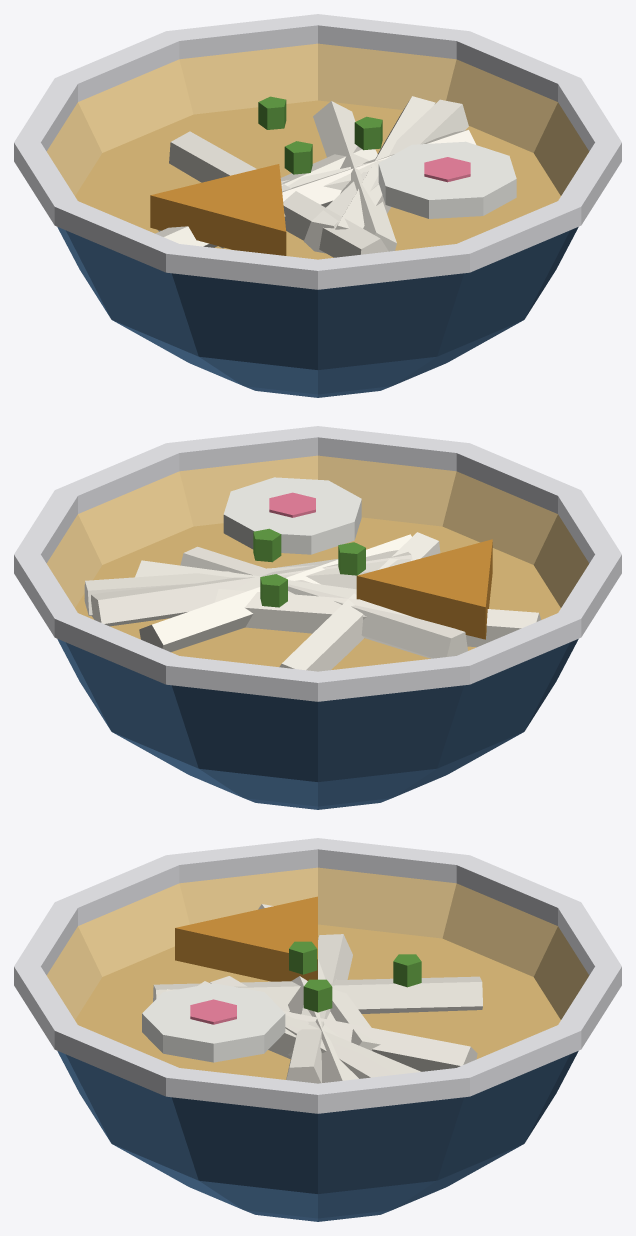
The model's file is Food_Udon.obj.
The picture shows the model from 3 angles, top to bottom: view 1: azimuth 30°, elevation 25°; view 2: azimuth 150°, elevation 25°; view 3: azimuth 270°, elevation 25°; orthographic projection.
Bounding box in the file's own units: 2.04 × 0.776 × 2.04.
